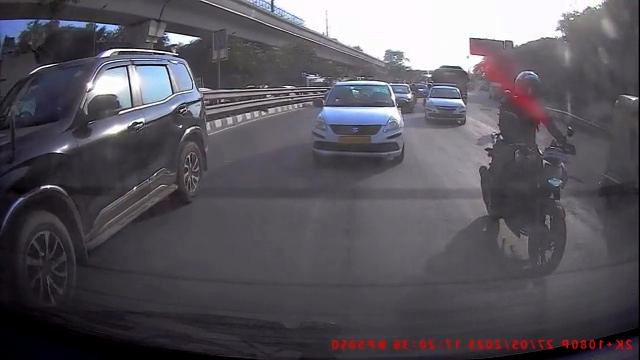motorcycle_with_helmet: (479, 65, 578, 280)
